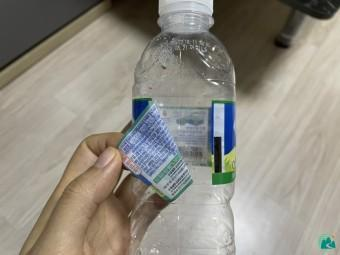plastic: (131, 1, 237, 255)
